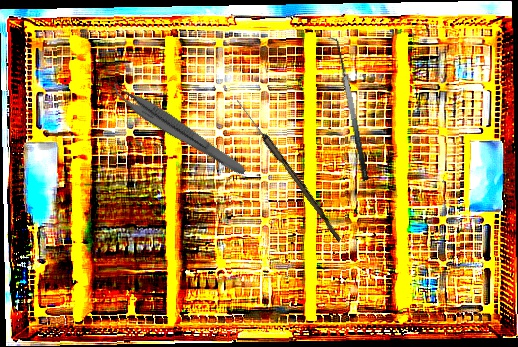Spatula Surgical: (324, 34, 371, 184)
Surgical Spoon: (233, 98, 345, 242)
Tissue Forceps: (105, 77, 253, 179)
